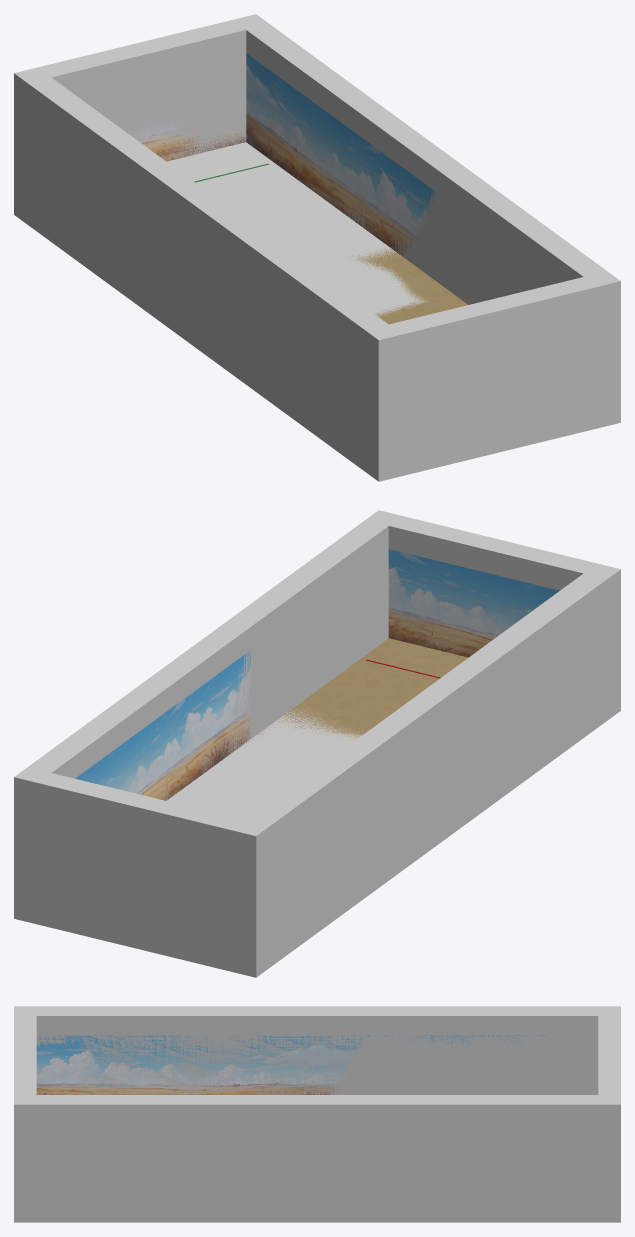
The model's file is squidgame_background_map2.fbx.
3 renders of one model, top to bottom at view 1: azimuth 30°, elevation 25°; view 2: azimuth 150°, elevation 25°; view 3: azimuth 270°, elevation 25°, orthographic. The views are drawn at different scales.
Parts seen in each view (by area): view 1: squidgame_background_map2_col, squidgame_background_map2; view 2: squidgame_background_map2_col, squidgame_background_map2; view 3: squidgame_background_map2_col, squidgame_background_map2.
Boxes of the visible parts, <box> form: squidgame_background_map2_col: <box>14,14,620,481</box>; squidgame_background_map2: <box>130,53,467,324</box>; squidgame_background_map2_col: <box>14,510,620,977</box>; squidgame_background_map2: <box>75,549,559,800</box>; squidgame_background_map2_col: <box>14,1006,620,1222</box>; squidgame_background_map2: <box>36,1035,550,1094</box>.
Bounding box in the file's own units: 49.71 × 27.78 × 130.
